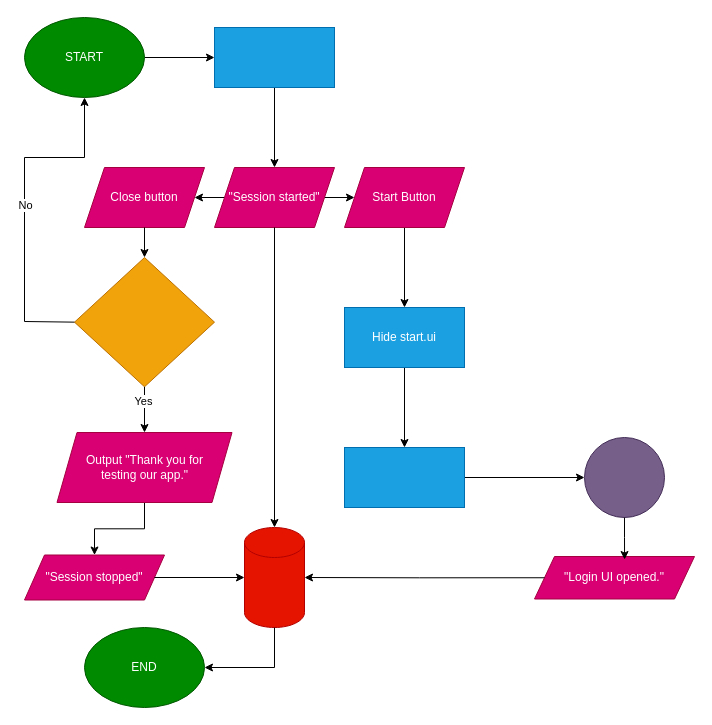
Image size: 712x725. Some labels were removed from this diagram. The box of each missing label's shape, as (x1, y1, x2, y2) in pixels:
Do you want to close: (74, 256, 214, 387)
login.ui: (584, 436, 664, 518)
logs: (244, 526, 304, 628)
Show login.ui: (344, 446, 464, 508)
Show start.ui: (214, 26, 334, 88)
